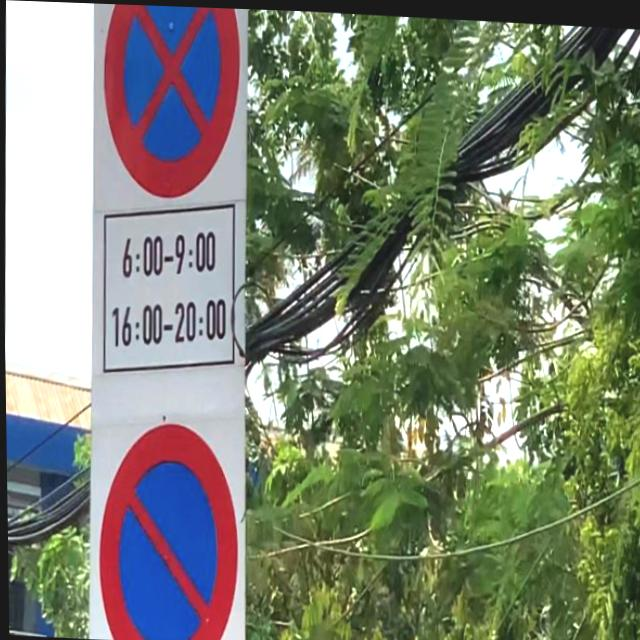Cam dung xe va do xe: (94, 3, 246, 212)
